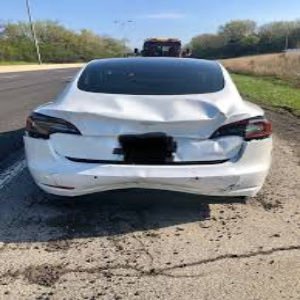bumper: (69, 162, 258, 202)
